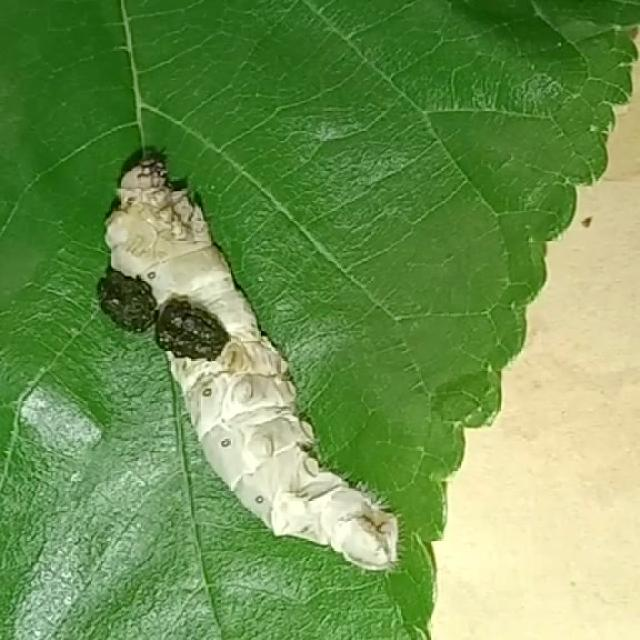Grasserie: (91, 142, 425, 572)
